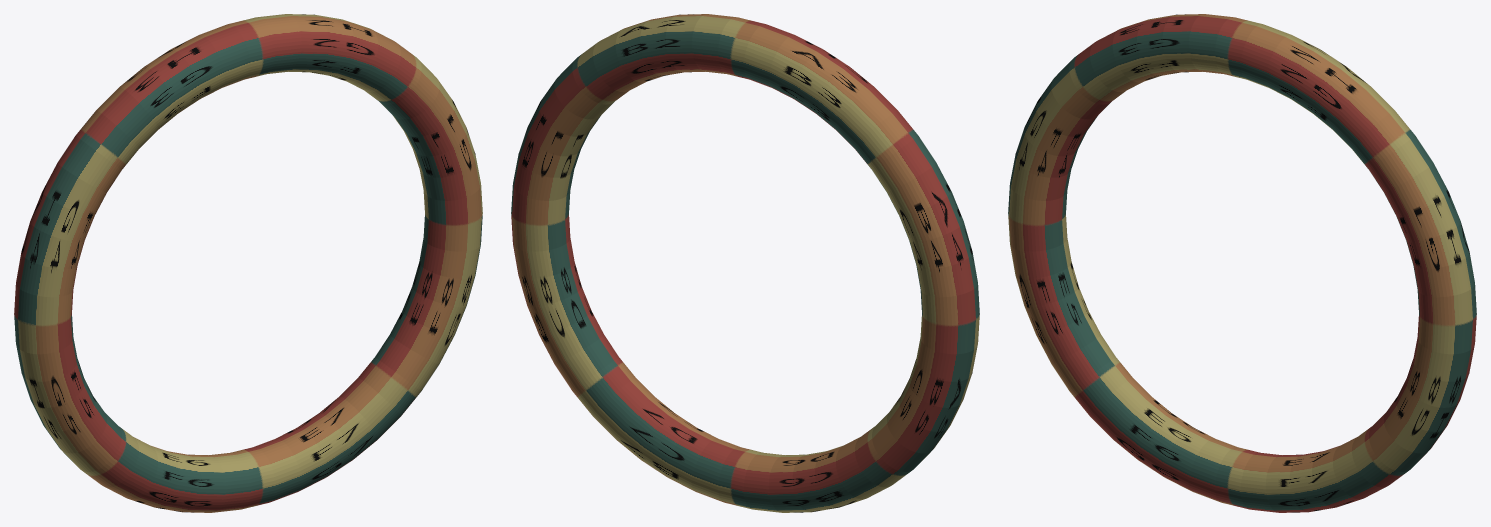
The model's file is texture_torus_R26_r5.glb.
The picture shows the model from 3 angles, left to right: view 1: azimuth 30°, elevation 25°; view 2: azimuth 150°, elevation 25°; view 3: azimuth 330°, elevation 25°; orthographic projection.
Parts seen in each view (by area): view 1: world; view 2: world; view 3: world.
Part boxes in pixels (left/top/right/bottom): world: left=14, top=14, right=482, bottom=512; world: left=511, top=14, right=979, bottom=512; world: left=1008, top=14, right=1476, bottom=512.
Size of the model in its own units: 30.67 by 30.61 by 3.33.
Materials: 1 (1 with a texture image).
